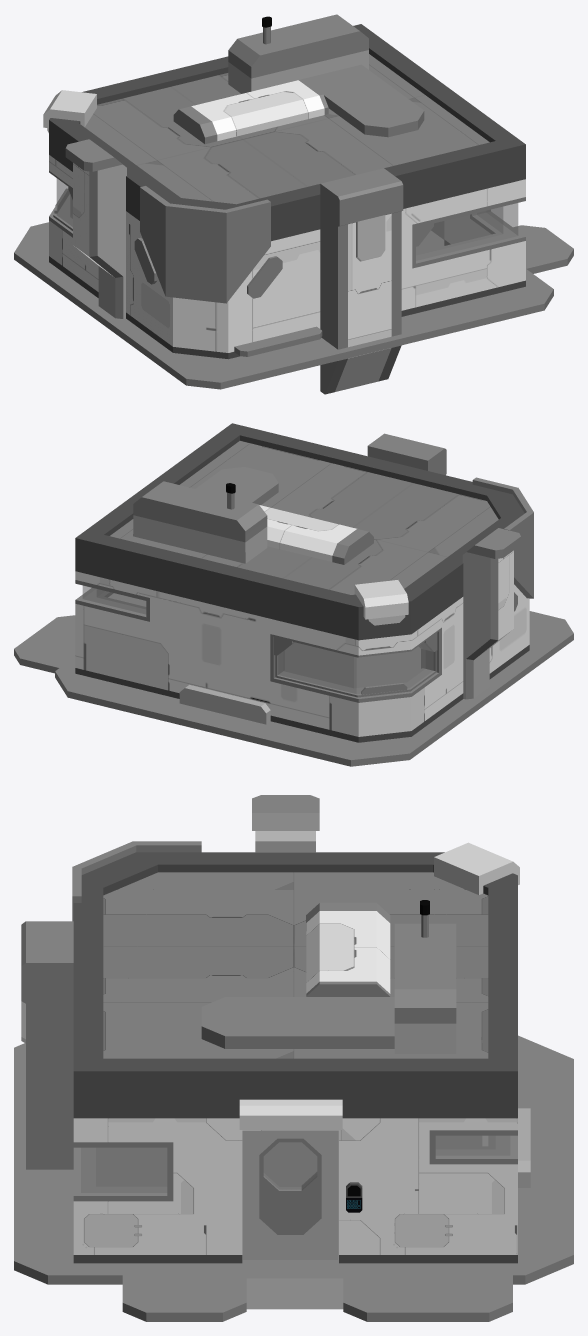
Rendered from SM_Building_6.fbx.
The picture shows the model from 3 angles, top to bottom: view 1: azimuth 30°, elevation 25°; view 2: azimuth 150°, elevation 25°; view 3: azimuth 270°, elevation 25°; orthographic projection. The views are drawn at different scales.
Visible parts, largest first — view 1: SM_Building_6_Main, SM_Building_6_Roof, SM_Building_6_Roof_Extras, SM_Building_6_Floor, SM_Building_6_Extra; view 2: SM_Building_6_Main, SM_Building_6_Roof, SM_Building_6_Floor, SM_Building_6_Roof_Extras, SM_Building_6_Extra; view 3: SM_Building_6_Main, SM_Building_6_Floor, SM_Building_6_Roof, SM_Building_6_Roof_Extras, SM_Building_6_Extra, SM_Building_6_Door.
Part boxes in pixels (bbox=[...]): SM_Building_6_Main: bbox=[43, 24, 525, 359]; SM_Building_6_Roof: bbox=[85, 54, 489, 204]; SM_Building_6_Roof_Extras: bbox=[173, 14, 424, 144]; SM_Building_6_Floor: bbox=[14, 222, 573, 389]; SM_Building_6_Extra: bbox=[320, 168, 403, 394]; SM_Building_6_Main: bbox=[75, 423, 533, 742]; SM_Building_6_Roof: bbox=[110, 441, 498, 594]; SM_Building_6_Floor: bbox=[14, 611, 573, 766]; SM_Building_6_Roof_Extras: bbox=[133, 467, 373, 564]; SM_Building_6_Extra: bbox=[367, 433, 446, 475]; SM_Building_6_Main: bbox=[72, 795, 530, 1263]; SM_Building_6_Floor: bbox=[14, 1035, 573, 1321]; SM_Building_6_Roof: bbox=[103, 872, 488, 1058]; SM_Building_6_Roof_Extras: bbox=[201, 900, 456, 1053]; SM_Building_6_Extra: bbox=[21, 921, 73, 1169]; SM_Building_6_Door: bbox=[243, 1130, 337, 1259].
Bounding box in the file's own units: 942 × 521 × 756.
